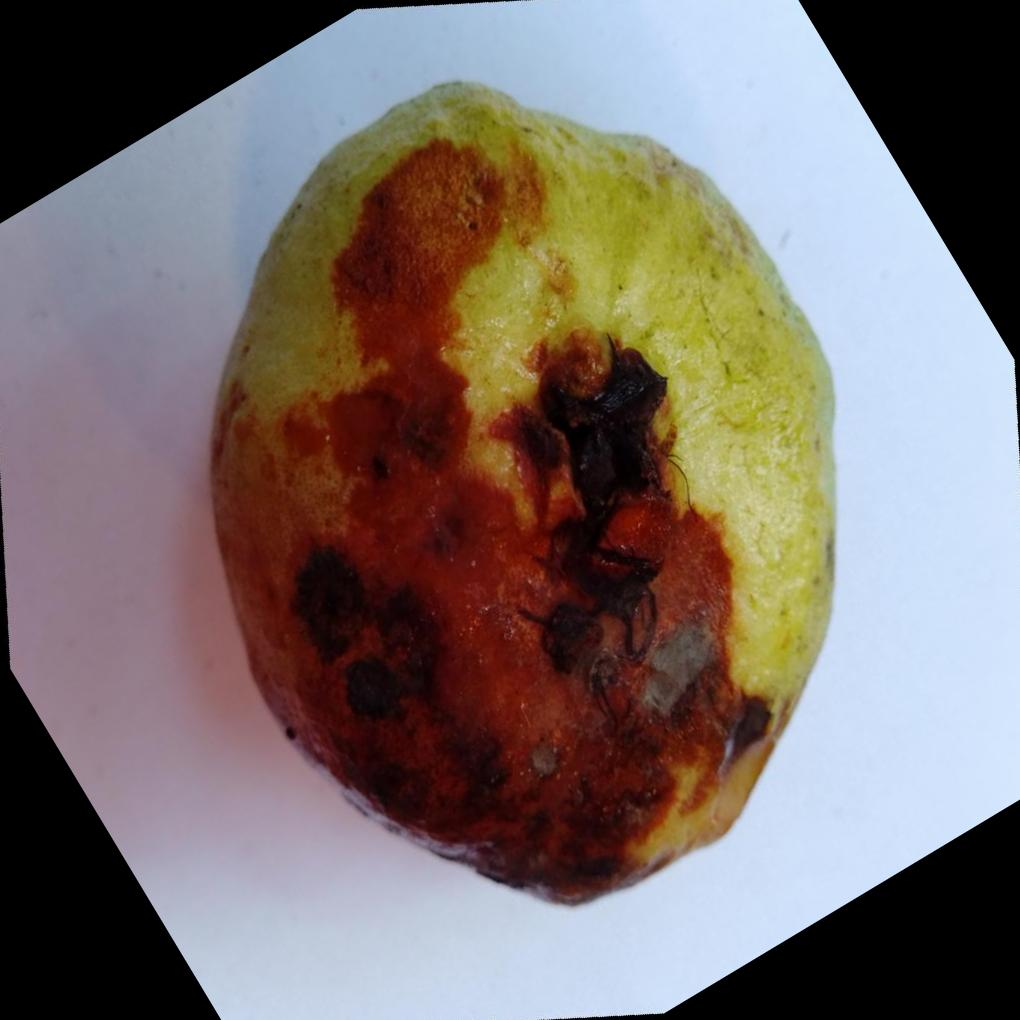FreshOrange: (210, 75, 842, 906)
